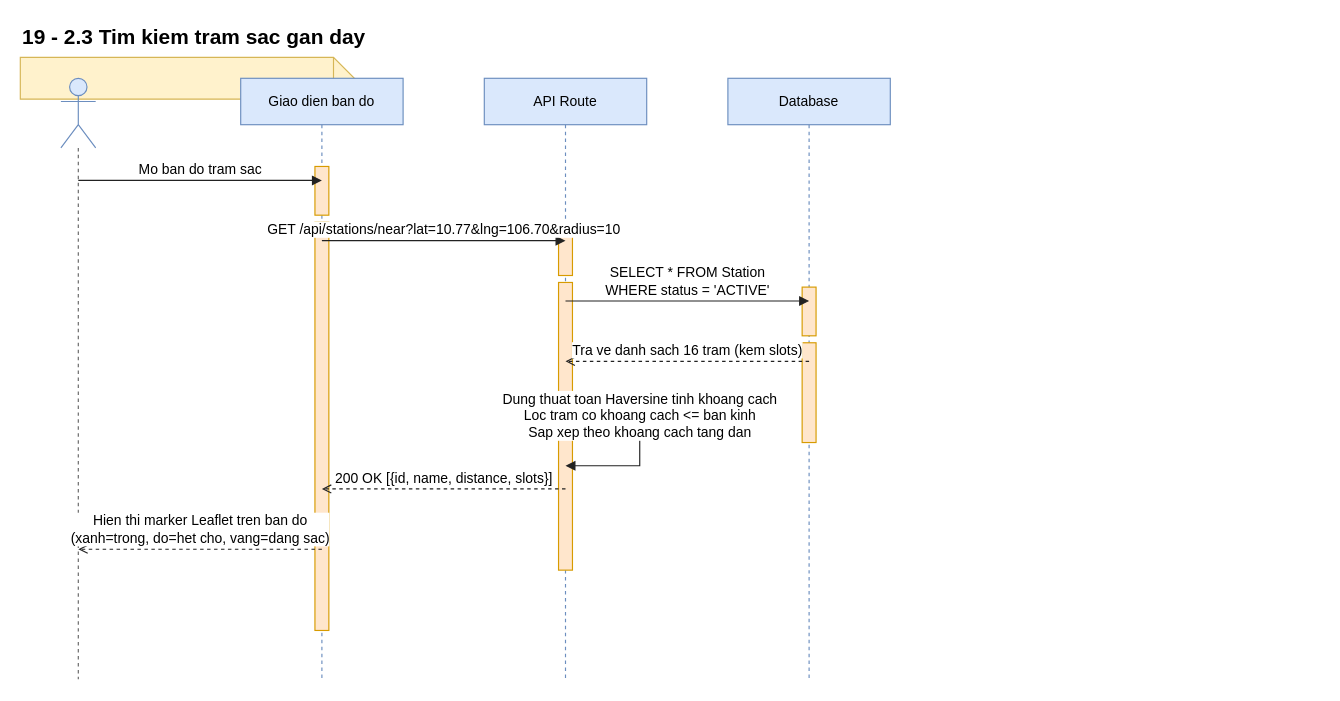
Some shapes in this 1340 by 701 pixel diagram are drawn without their labels. Here are the shapes that lost their labels. From the top down, the centre of each, then its label:
At point 193,77: "Mermaid sequence source: PHAN_TICH_THIET_KE_HE_THONG.md:933".
At point 78,112: "Khach hang".
